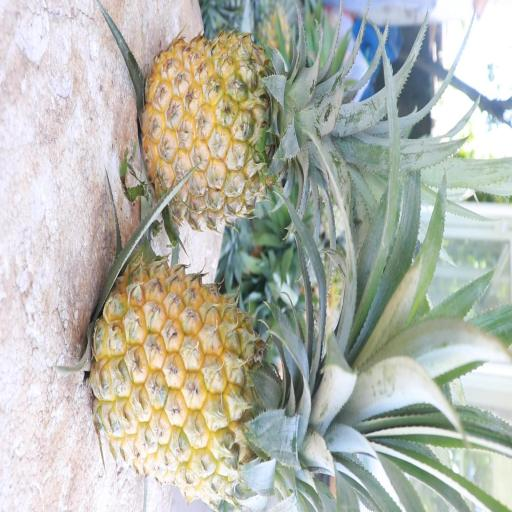Pineapple - v8 v1: (86, 252, 401, 506), (136, 24, 372, 239)
